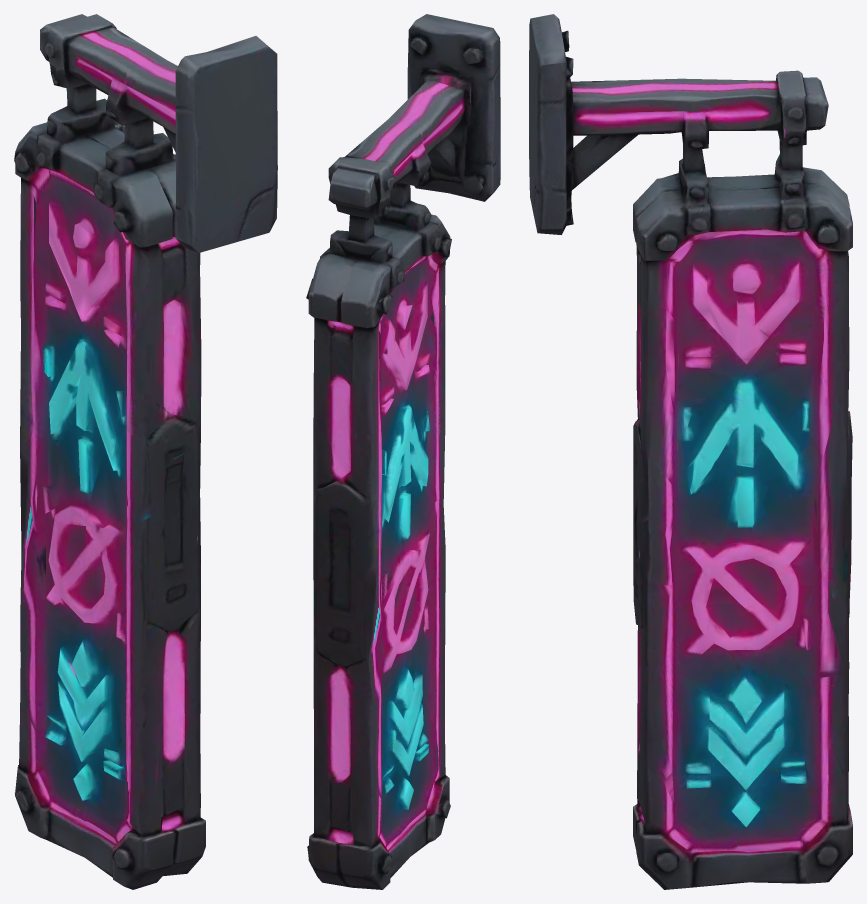
Rendered from env-neon-blade.glb.
The picture shows the model from 3 angles, left to right: view 1: azimuth 30°, elevation 25°; view 2: azimuth 150°, elevation 25°; view 3: azimuth 270°, elevation 25°; orthographic projection. The views are drawn at different scales.
Parts seen in each view (by area): view 1: env-neon-blade; view 2: env-neon-blade; view 3: env-neon-blade.
Part boxes in pixels (x1,y1,x2,y2): env-neon-blade: (14,14,277,889); env-neon-blade: (306,14,500,889); env-neon-blade: (529,14,852,889).
Size of the model in its own units: 0.4139 by 3 by 1.04.
1 material, 1 textured.
